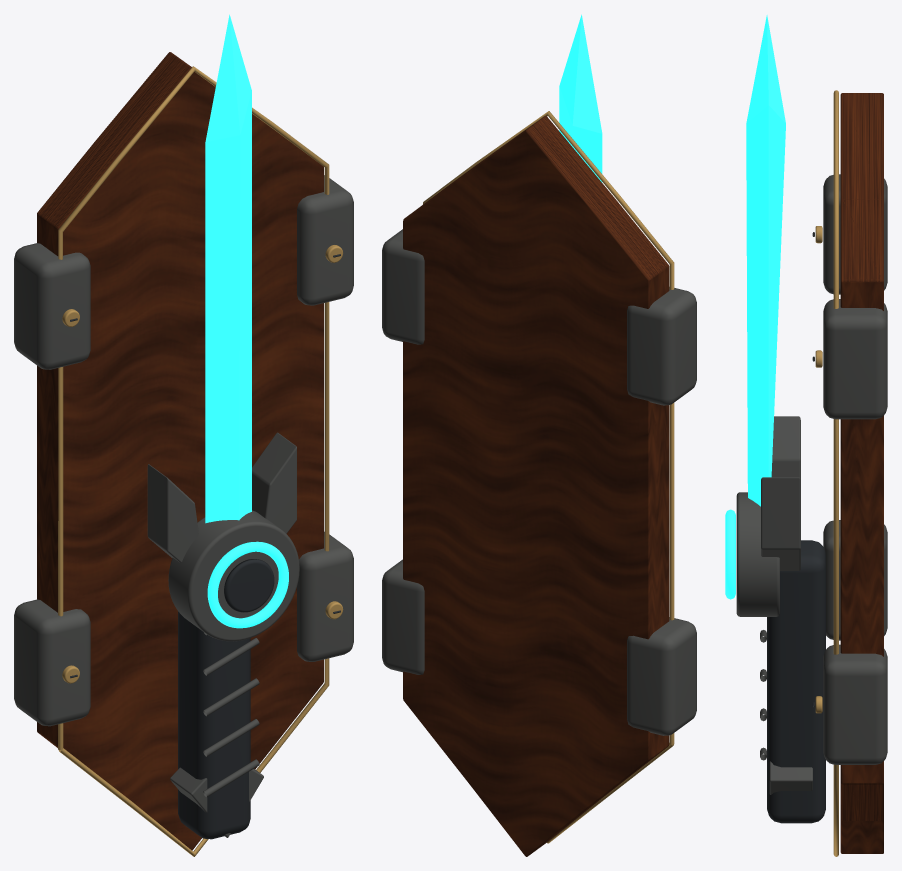
The model's file is aventura_espada_luminosa.glb.
The picture shows the model from 3 angles, left to right: view 1: azimuth 30°, elevation 25°; view 2: azimuth 150°, elevation 25°; view 3: azimuth 270°, elevation 25°; orthographic projection. The views are drawn at different scales.
Visible parts, largest first — view 1: espada_luminosa; view 2: espada_luminosa; view 3: espada_luminosa.
Boxes of the visible parts, bbox=[...] form: espada_luminosa: bbox=[14, 14, 353, 856]; espada_luminosa: bbox=[382, 14, 696, 856]; espada_luminosa: bbox=[725, 15, 887, 856].
Size of the model in its own units: 0.204 by 0.5365 by 0.0935.
Materials: 5 (1 with a texture image).
